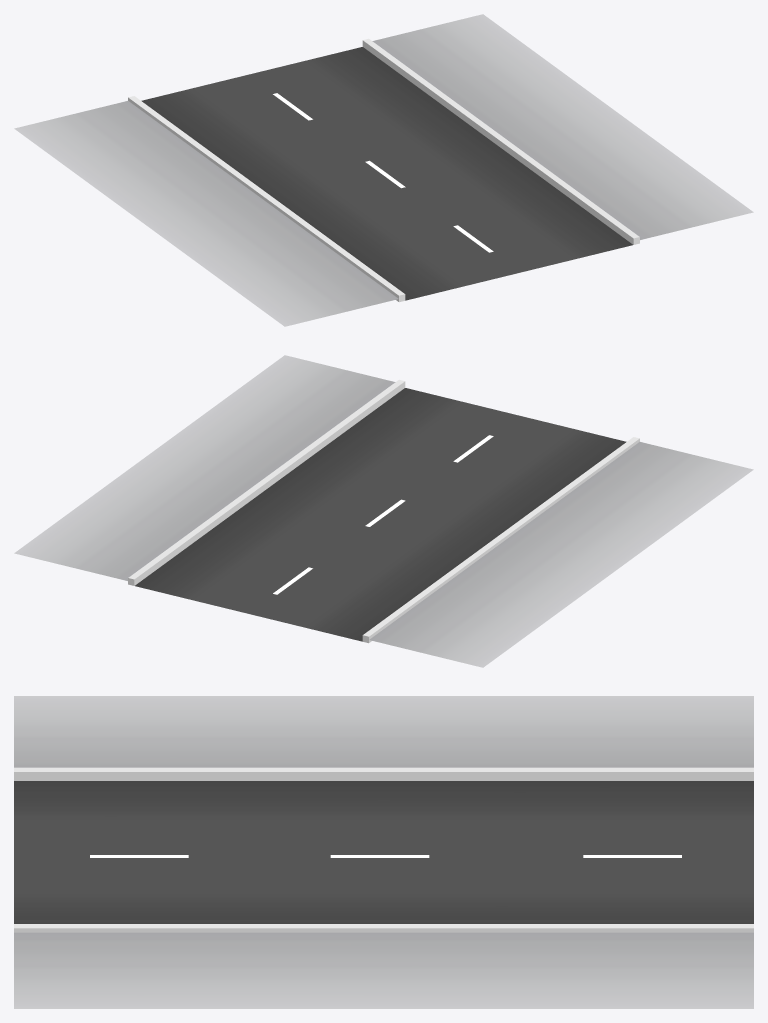
Rendered from city2-road-009.glb.
The picture shows the model from 3 angles, top to bottom: view 1: azimuth 30°, elevation 25°; view 2: azimuth 150°, elevation 25°; view 3: azimuth 270°, elevation 25°; orthographic projection. The views are drawn at different scales.
Visible parts, largest first — view 1: road_009; view 2: road_009; view 3: road_009.
Part boxes in pixels (x1,y1,x2,y2): road_009: (14,14,753,326); road_009: (14,355,753,667); road_009: (14,696,753,1008).
Bounding box in the file's own units: 15 × 0.2 × 15.
1 material, 1 textured.
